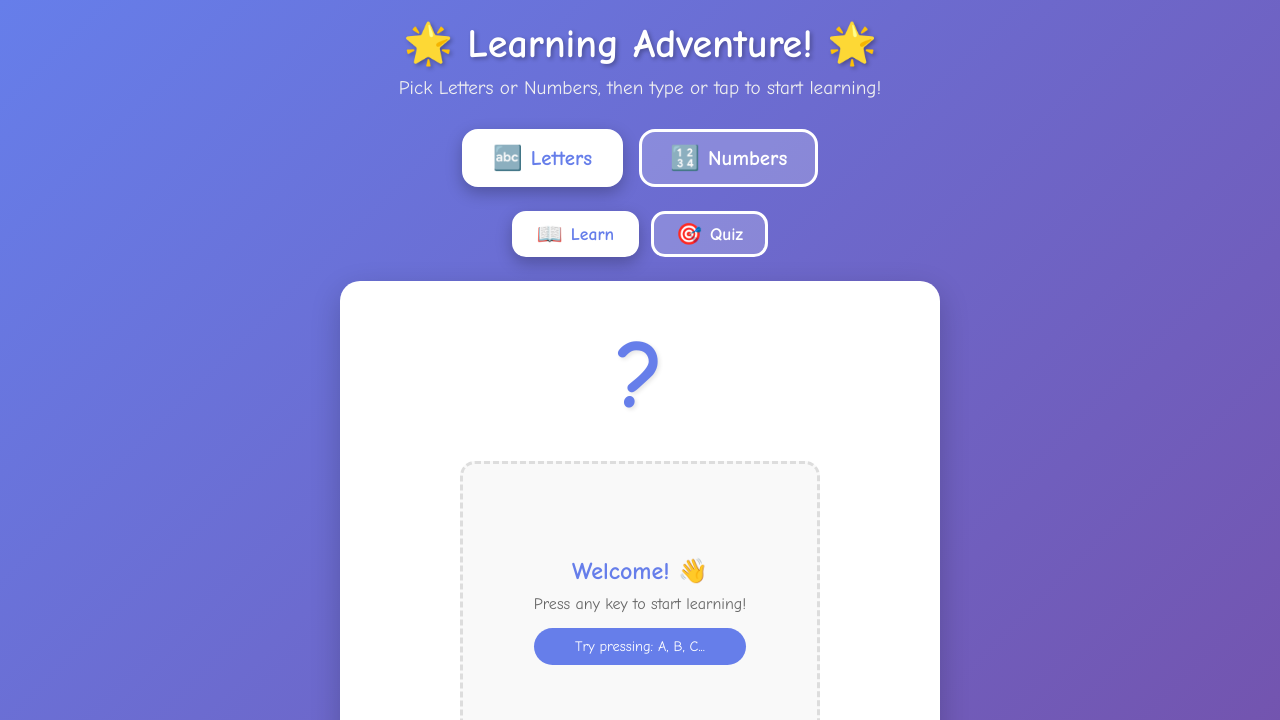
Test: Find the Letter Quiz › Question setup › shows starting progress and score
The image size is (1280, 720).
Click the tab "🎯 Quiz" at point(710, 234), box top-left (651, 211), bottom-right (768, 257)
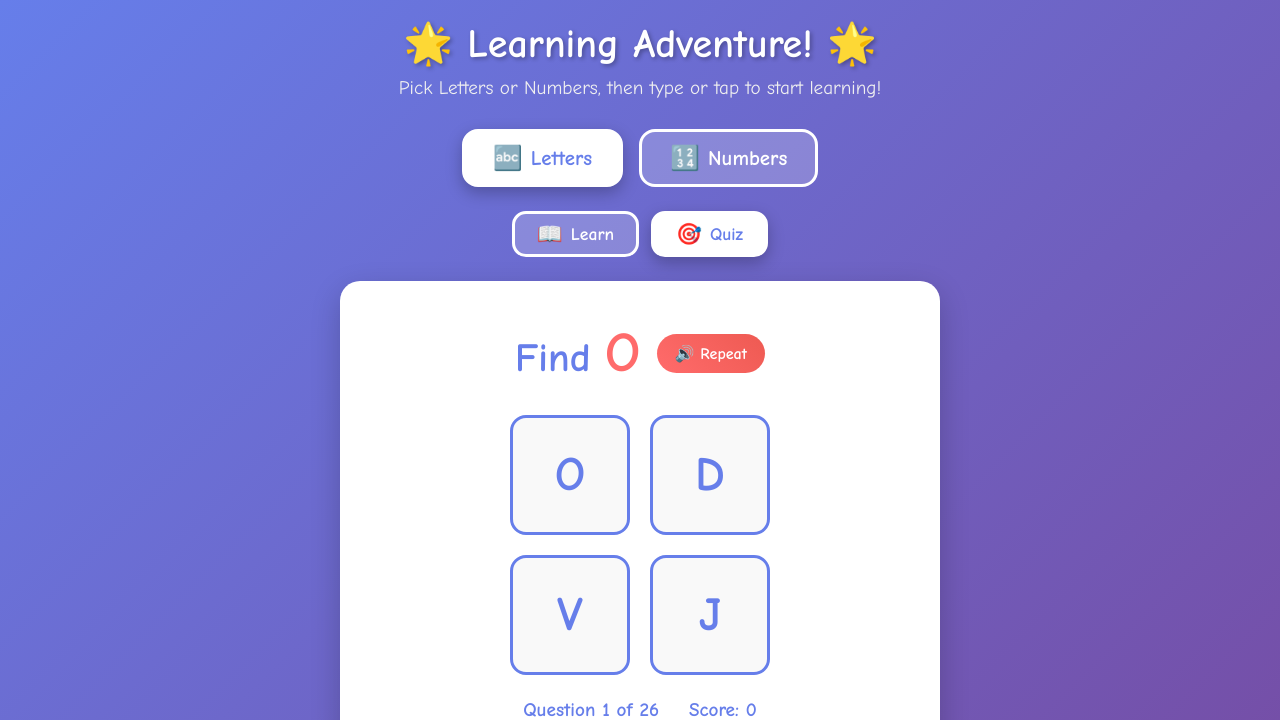
Now the text "Question 1 of 26" is shown, box top-left (523, 699), bottom-right (659, 719)
Now the text "Score: 0" is shown, box top-left (689, 699), bottom-right (757, 719)
